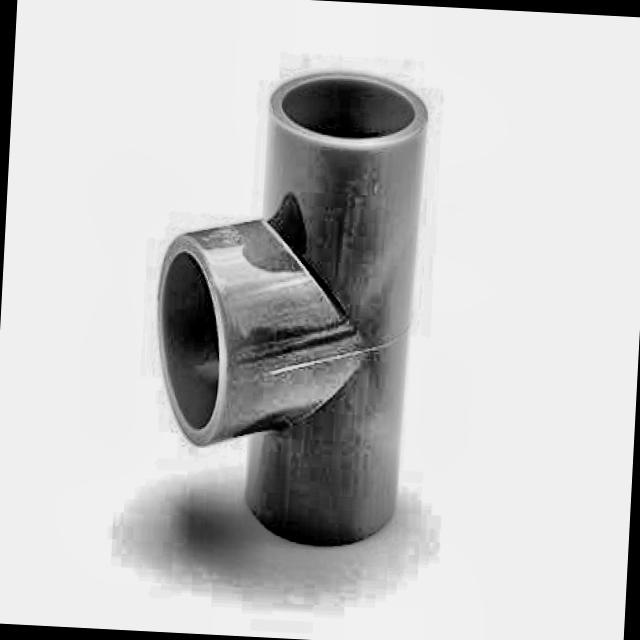EQUALTEE: (154, 69, 429, 550)
